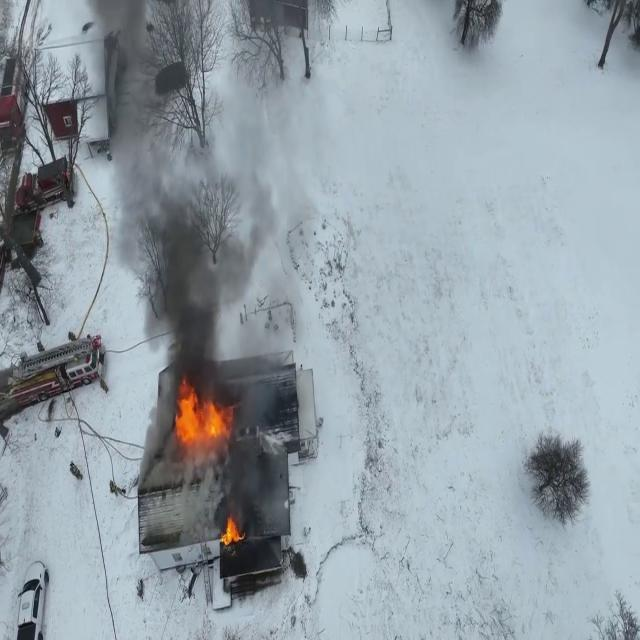Fire: (168, 375, 238, 455), (221, 511, 241, 549)
Smoke: (78, 2, 296, 364)
